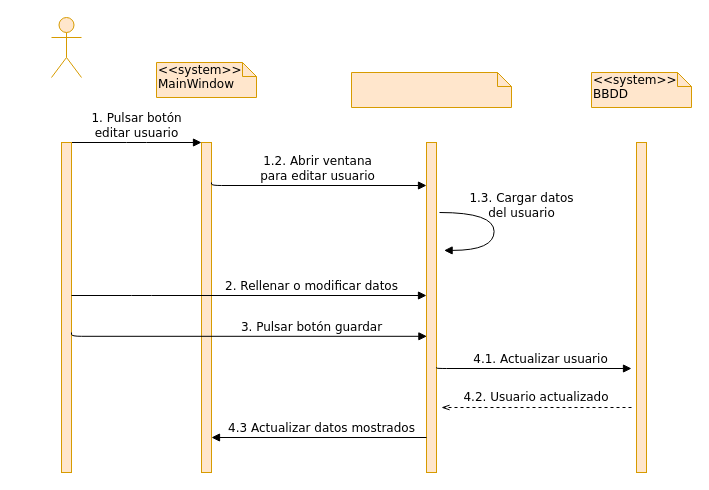
This 709x490 diagram has some shape labels left out. The box of each missing label's shape, as (x1, y1, x2, y2) in pixels:
<<system>> EditarUsuarioWindow: (350, 72, 512, 108)
<<user>> Maestro: (50, 16, 82, 78)
